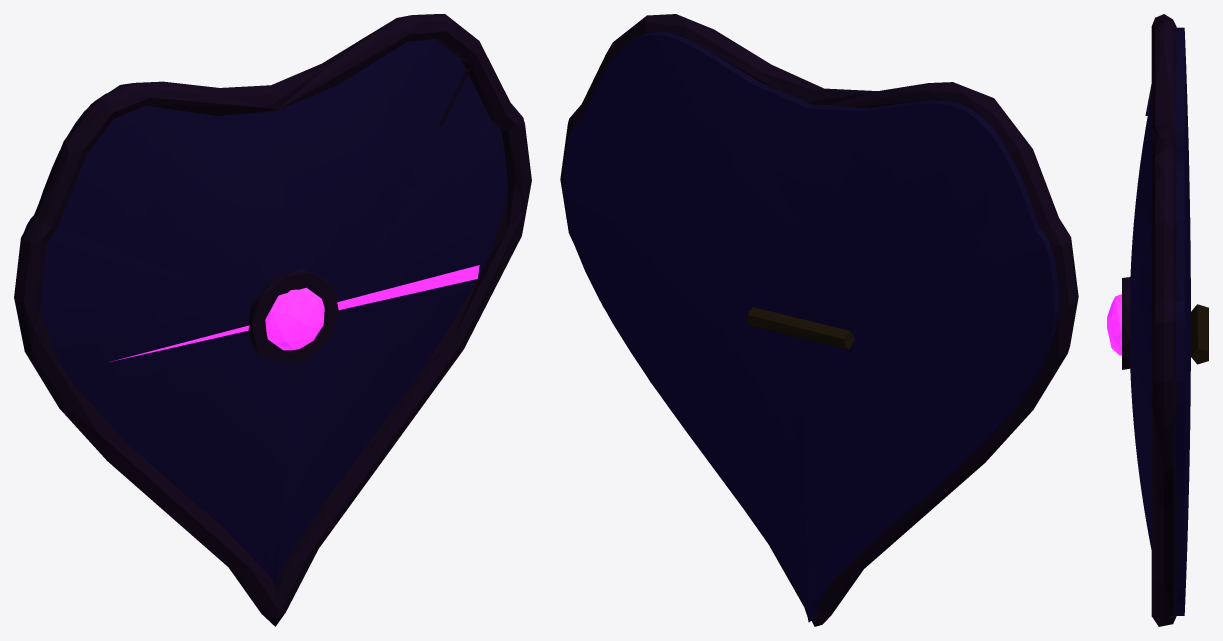
The model's file is shield_6.glb.
3 renders of one model, left to right at view 1: azimuth 30°, elevation 25°; view 2: azimuth 150°, elevation 25°; view 3: azimuth 270°, elevation 25°, orthographic. The views are drawn at different scales.
Parts seen in each view (by area): view 1: part_01, part_02, part_08, part_07, part_06; view 2: part_01, part_02, part_09; view 3: part_02, part_01, part_09, part_08, part_07.
Part boxes in pixels (box(x1,y1,x2,y2)): part_01: box(24, 38, 508, 585); part_02: box(14, 14, 531, 626); part_08: box(247, 268, 338, 366); part_07: box(265, 287, 324, 350); part_06: box(110, 265, 479, 361); part_01: box(563, 31, 1058, 622); part_02: box(560, 14, 1078, 626); part_09: box(747, 307, 853, 348); part_02: box(1151, 14, 1176, 626); part_01: box(1130, 27, 1190, 615); part_09: box(1191, 304, 1208, 364); part_08: box(1122, 277, 1130, 369); part_07: box(1107, 294, 1121, 355).
Size of the model in its own units: 1.06 by 1.13 by 0.1933.
